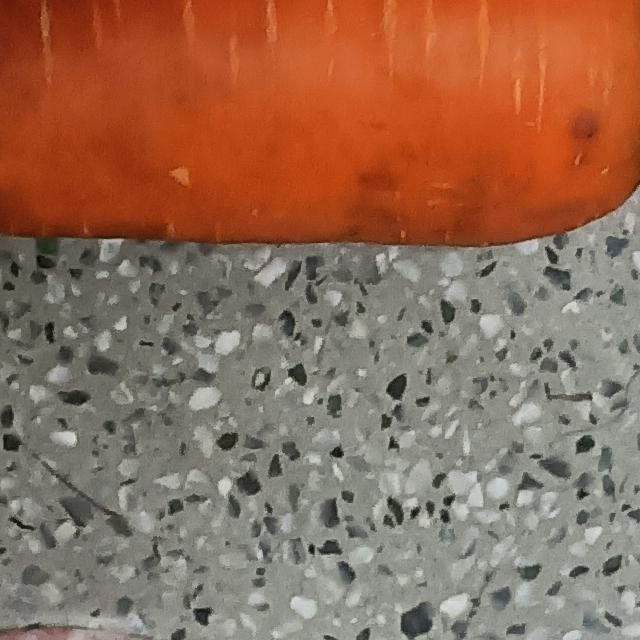carrot: (1, 1, 640, 258)
